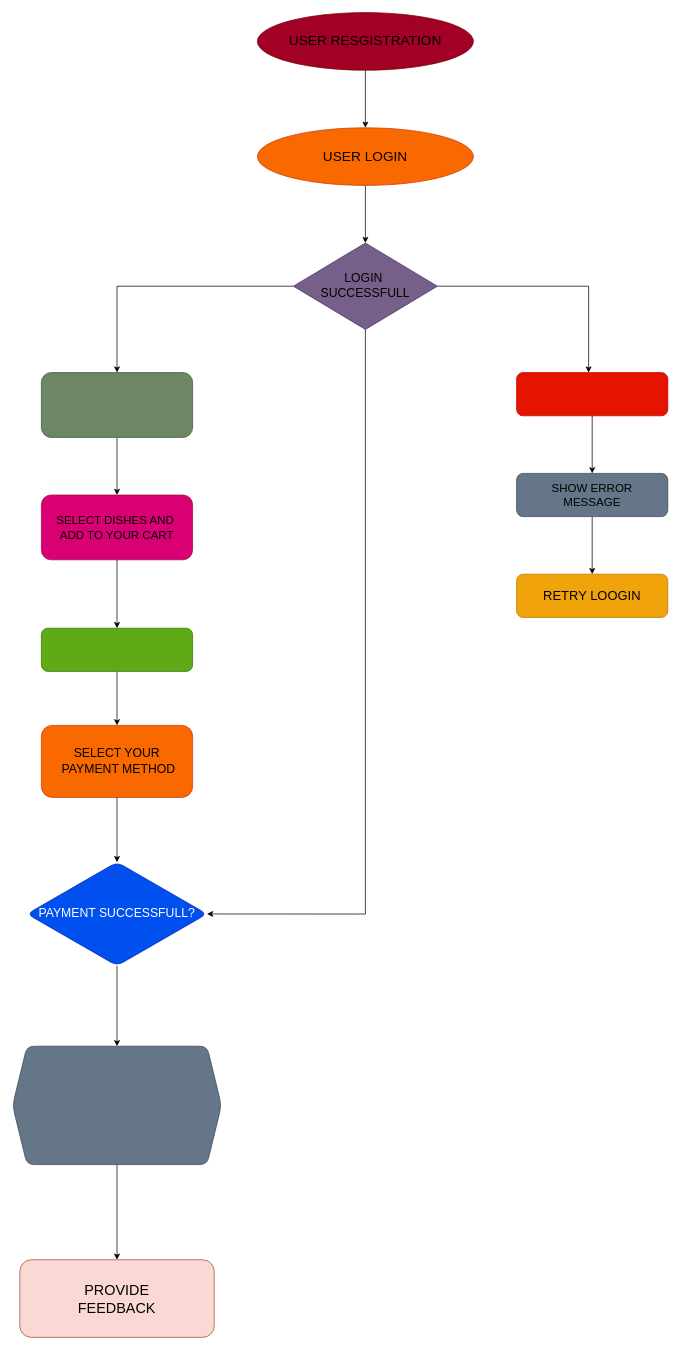
The diagram is 680 pixels wide and 1350 high, and some of its shapes have lost their labels. The centre of each missing label's shape, as x and y in pixels:
"BROWSE RESTAURENT AND DISHES" goes at (x=117, y=404).
"LOGIN FAILED" goes at (x=592, y=394).
"ORDER DEVELIVERED" goes at (x=116, y=1105).
"PLACE ORDER" goes at (x=117, y=649).
